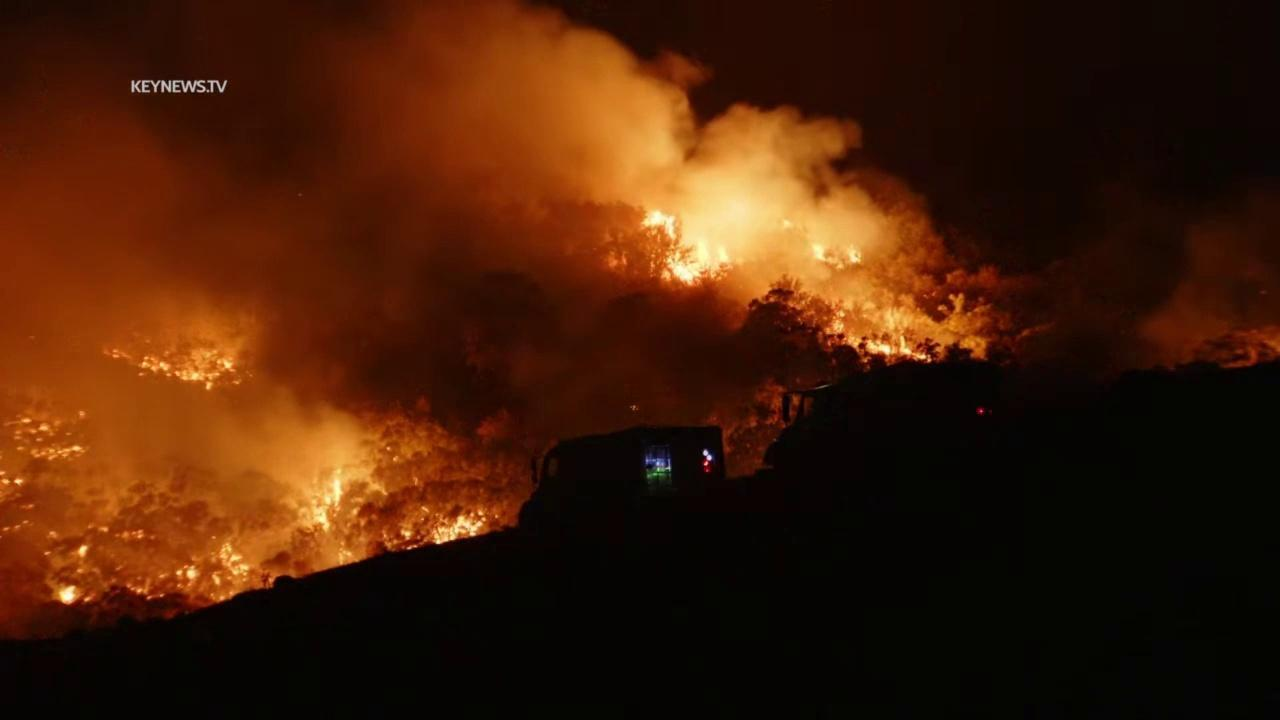fire: (102, 343, 244, 392), (643, 208, 711, 288), (381, 504, 488, 553), (11, 408, 89, 461), (208, 541, 251, 602), (863, 333, 933, 363), (313, 468, 344, 534), (54, 582, 95, 608), (185, 563, 204, 587), (715, 243, 731, 265), (812, 242, 828, 261), (847, 245, 862, 264), (78, 544, 90, 559), (782, 218, 795, 229), (630, 404, 640, 412)
smoke: (0, 0, 1280, 649)
